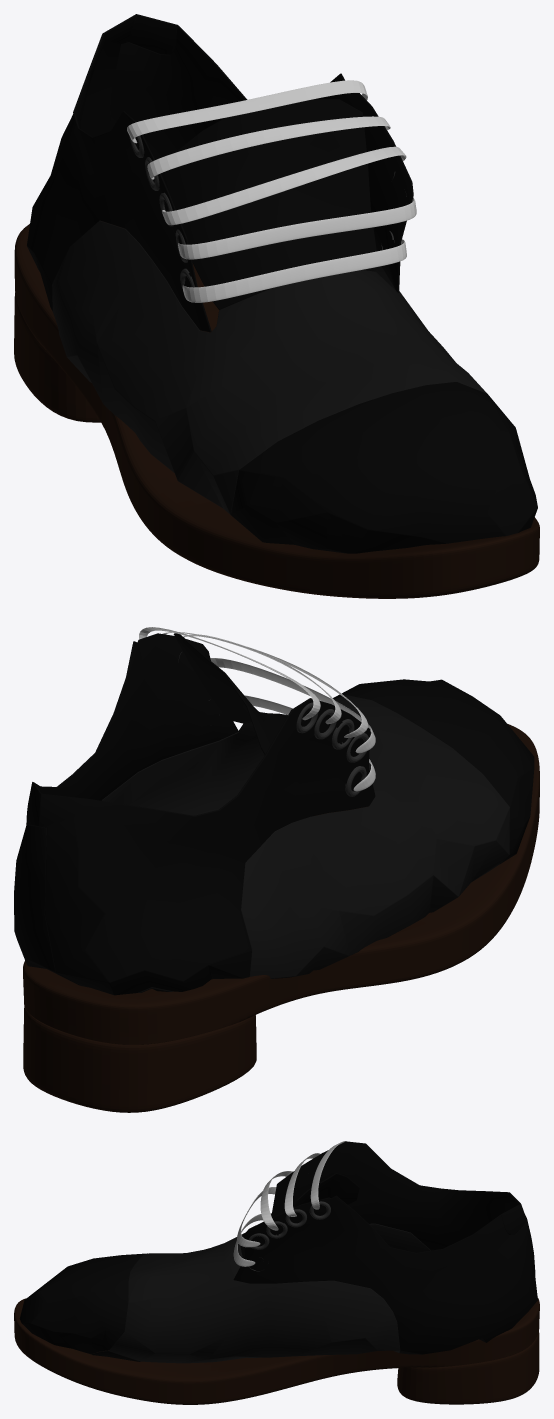
The model's file is za1in1.1derecha.fbx.
3 views of the same model, one above another, from view 1: azimuth 30°, elevation 25°; view 2: azimuth 150°, elevation 25°; view 3: azimuth 270°, elevation 25° (orthographic). The views are drawn at different scales.
Visible parts, largest first — view 1: ZAPATO1_3, Plane, Plane.002, Plane.005, Plane.001, Plane.004, Plane.003; view 2: ZAPATO1_3, Plane, Plane.002, Plane.004, Plane.005, Plane.001; view 3: ZAPATO1_3, Plane, Plane.001, Plane.004, Plane.003, Plane.002, Plane.005.
Part boxes in pixels (<box>): ZAPATO1_3: <box>27,14,537,553</box>; Plane: <box>14,224,539,598</box>; Plane.002: <box>178,197,416,259</box>; Plane.005: <box>182,239,406,302</box>; Plane.001: <box>162,146,406,224</box>; Plane.004: <box>127,80,367,143</box>; Plane.003: <box>147,116,390,179</box>; ZAPATO1_3: <box>14,633,534,995</box>; Plane: <box>23,724,539,1112</box>; Plane.002: <box>210,658,375,753</box>; Plane.004: <box>139,627,320,720</box>; Plane.005: <box>244,695,375,791</box>; Plane.001: <box>183,634,367,737</box>; ZAPATO1_3: <box>19,1141,537,1363</box>; Plane: <box>14,1298,539,1404</box>; Plane.001: <box>260,1171,293,1230</box>; Plane.004: <box>310,1141,347,1209</box>; Plane.003: <box>284,1153,320,1216</box>; Plane.002: <box>237,1187,276,1247</box>; Plane.005: <box>233,1213,271,1266</box>.
Bounding box in the file's own units: 174 × 204 × 447.
